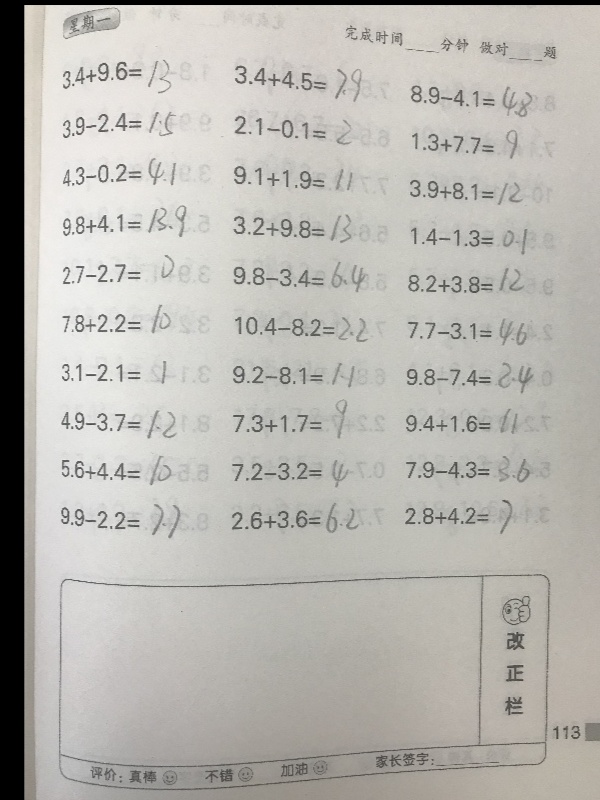equation: (397, 76, 542, 120), (226, 256, 371, 299), (232, 305, 377, 348), (226, 353, 371, 396), (221, 398, 366, 441), (222, 448, 367, 491), (226, 495, 371, 538), (397, 123, 542, 166), (397, 167, 542, 210), (396, 215, 541, 258), (394, 258, 539, 301), (398, 306, 543, 349), (402, 353, 547, 396), (402, 397, 547, 440), (399, 446, 544, 489), (393, 493, 538, 536), (59, 202, 208, 241), (230, 63, 365, 104), (227, 109, 362, 150), (229, 158, 364, 199), (226, 206, 361, 247), (57, 404, 187, 446), (51, 452, 181, 494), (54, 499, 184, 541), (58, 250, 192, 289), (53, 56, 178, 96), (58, 154, 193, 189), (59, 305, 174, 340), (58, 108, 179, 141), (58, 357, 170, 388)
